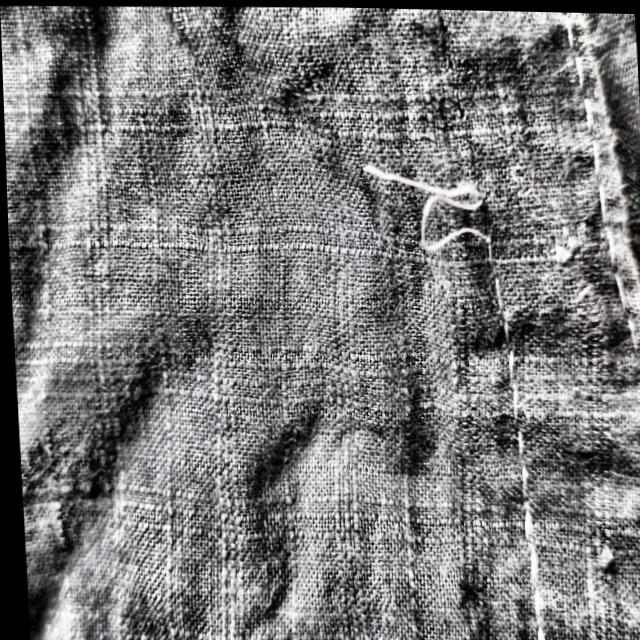Stitch: (333, 70, 531, 294)
